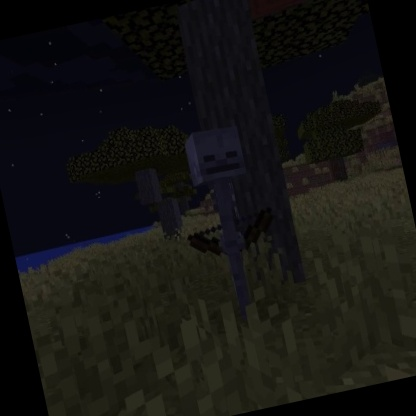skeleton: (161, 114, 298, 328)
